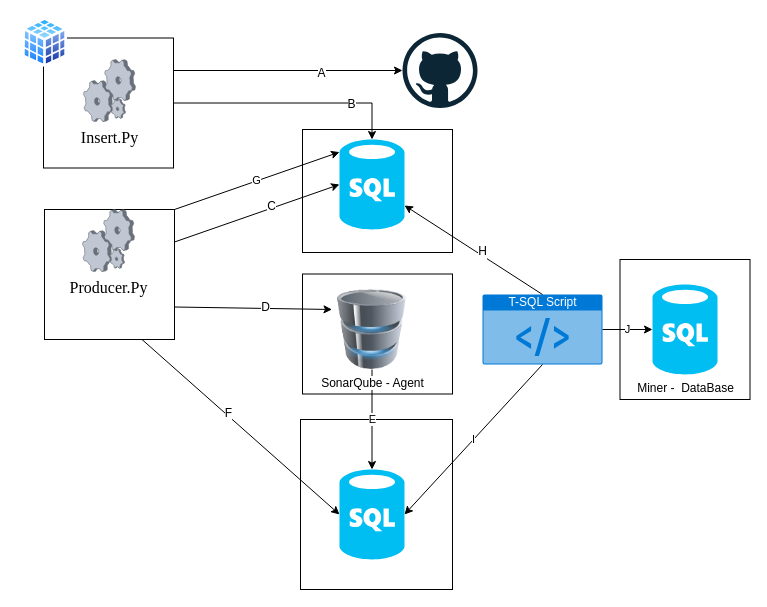
Image size: 767x607. Some labels were removed from this diagram. The shapes that lost their labels are listed below. From the top down, each one's box as (x1, y1, x2, y2) in pixels, then its label:
(22, 17, 67, 67): pydriller
(339, 139, 404, 229): Local - DataBase
(339, 469, 404, 559): SonarQube - DataBase
